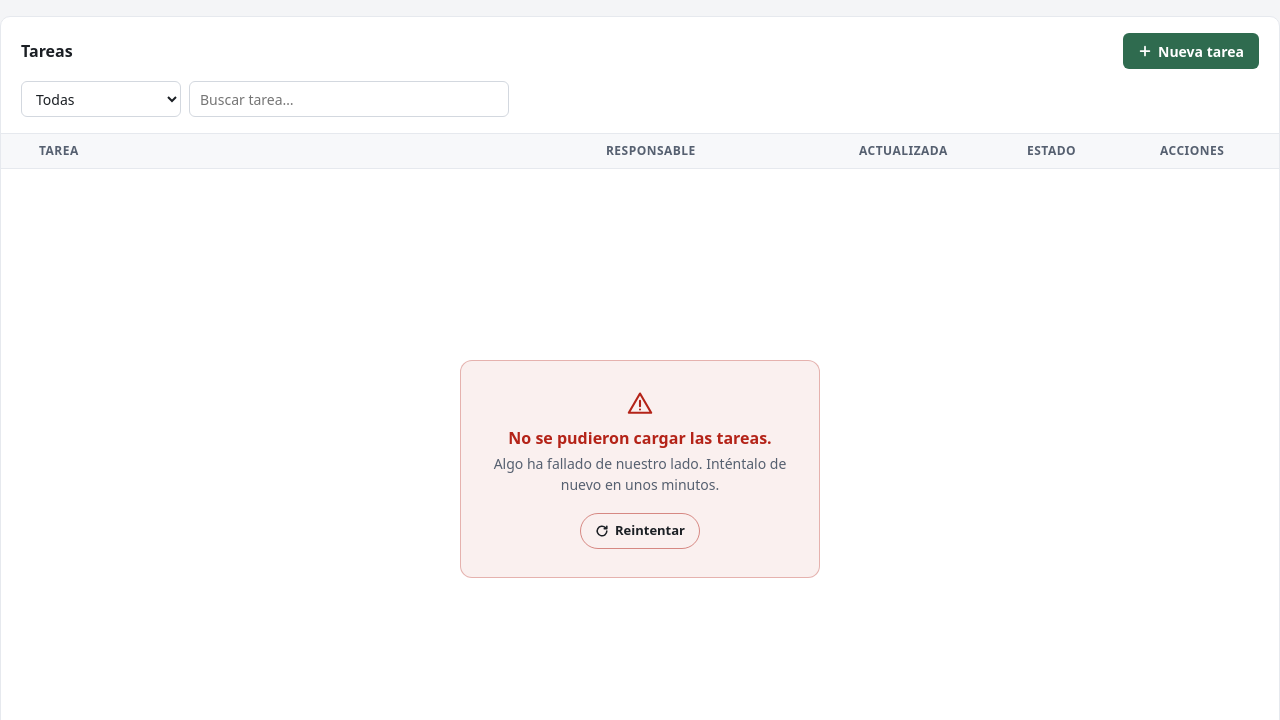
carga y errores de la lista › un error al cargar es visible y «Reintentar» vuelve a pedir la lista
Expected: the message shows "No se pudieron cargar las tareas.", [508,427,772,449]
Click the button "Reintentar" at (640, 531), box [580,513,700,549]
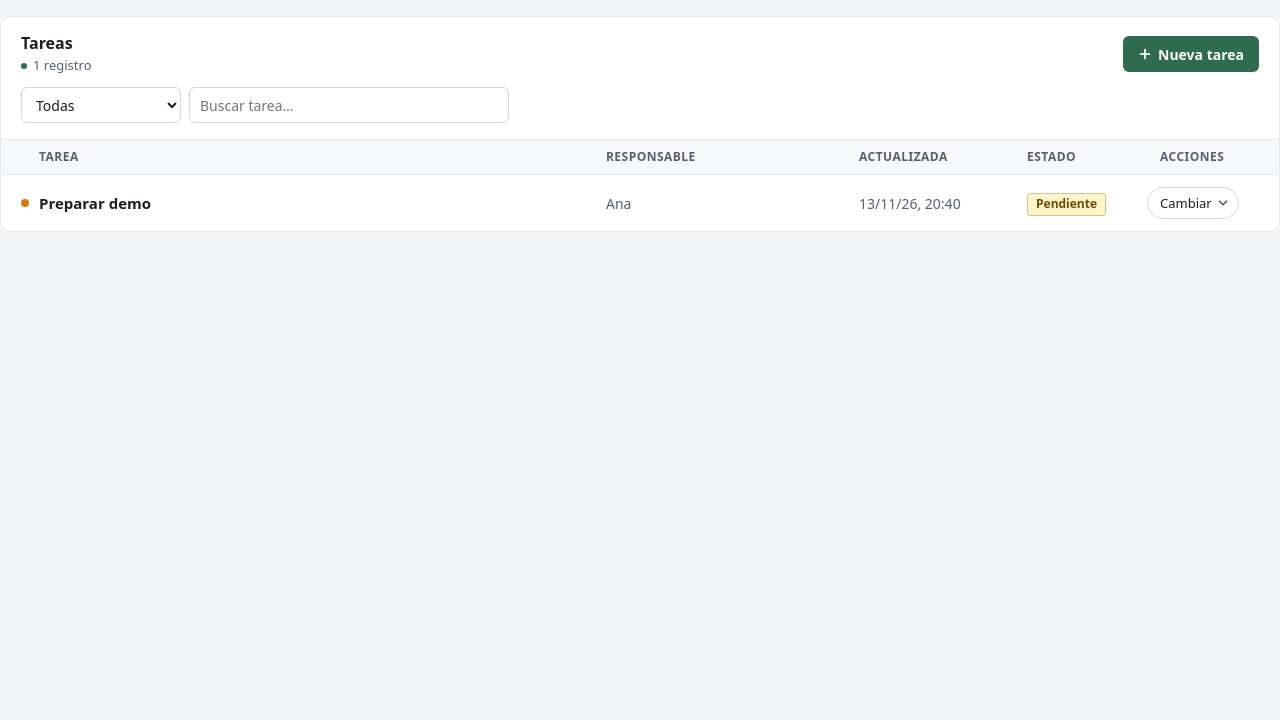
Expected: the heading "Preparar demo" is shown, [39,193,151,214]
